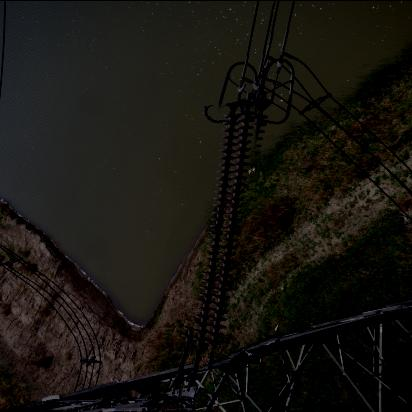insulator: (174, 103, 277, 369)
